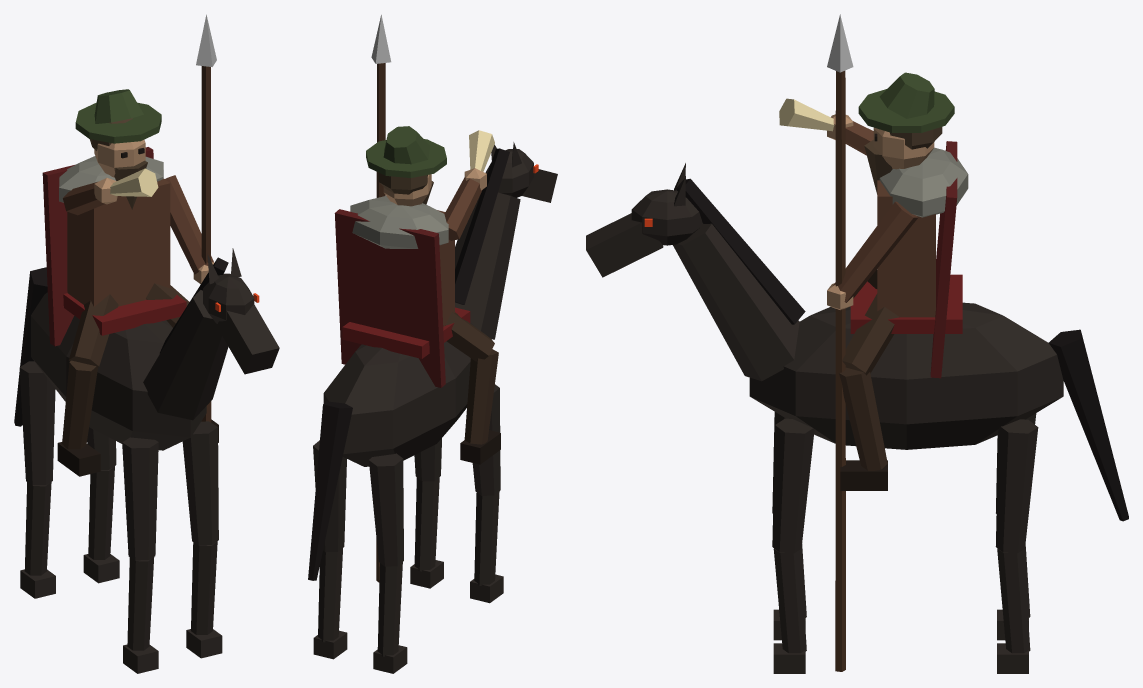
The model's file is hackelberg.glb.
3 renders of one model, left to right at view 1: azimuth 30°, elevation 25°; view 2: azimuth 150°, elevation 25°; view 3: azimuth 270°, elevation 25°, orthographic. The views are drawn at different scales.
Bounding box in the file's own units: 0.6639 × 2.77 × 2.04.
Materials: 1 (1 with a texture image).
